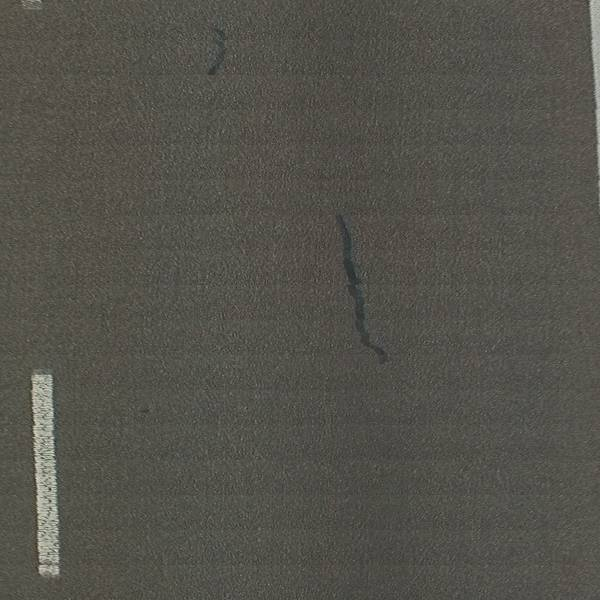road_damage: (332, 210, 396, 373), (205, 23, 232, 80)
